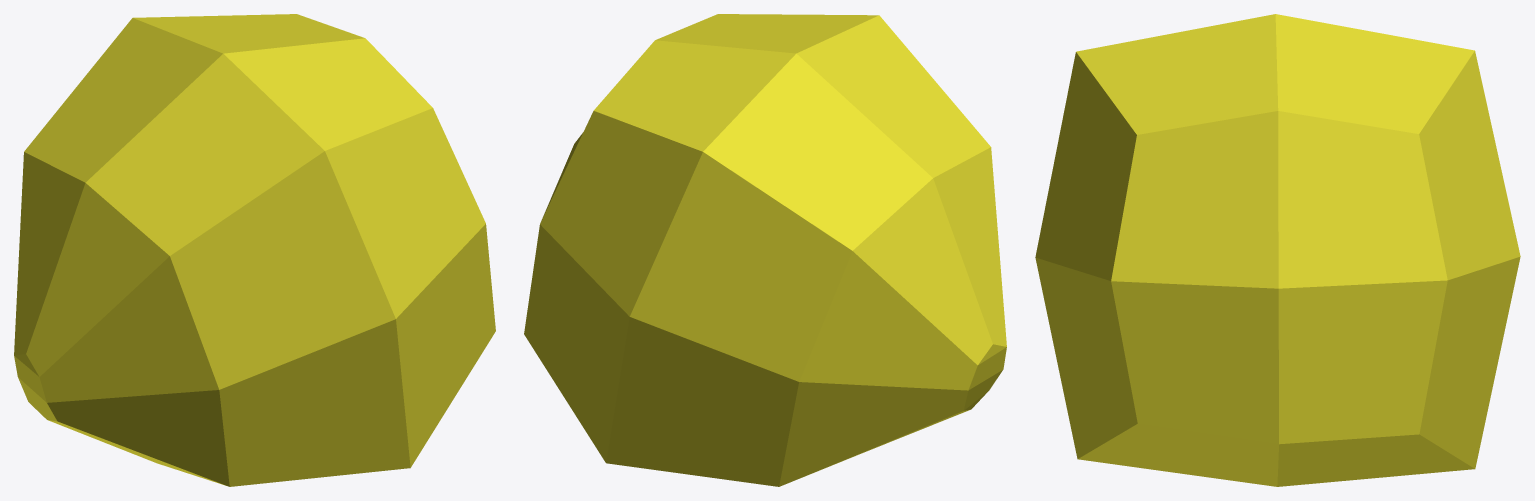
Rendered from lemon.fbx.
3 renders of one model, left to right at view 1: azimuth 30°, elevation 25°; view 2: azimuth 150°, elevation 25°; view 3: azimuth 270°, elevation 25°, orthographic. The views are drawn at different scales.
Parts seen in each view (by area): view 1: lemon; view 2: lemon; view 3: lemon.
Part boxes in pixels (left/top/right/bottom): lemon: left=14, top=14, right=495, bottom=486; lemon: left=524, top=14, right=1006, bottom=486; lemon: left=1035, top=14, right=1520, bottom=486.
Size of the model in its own units: 6.4 by 5.65 by 5.9.
Materials: 1 (1 with a texture image).
